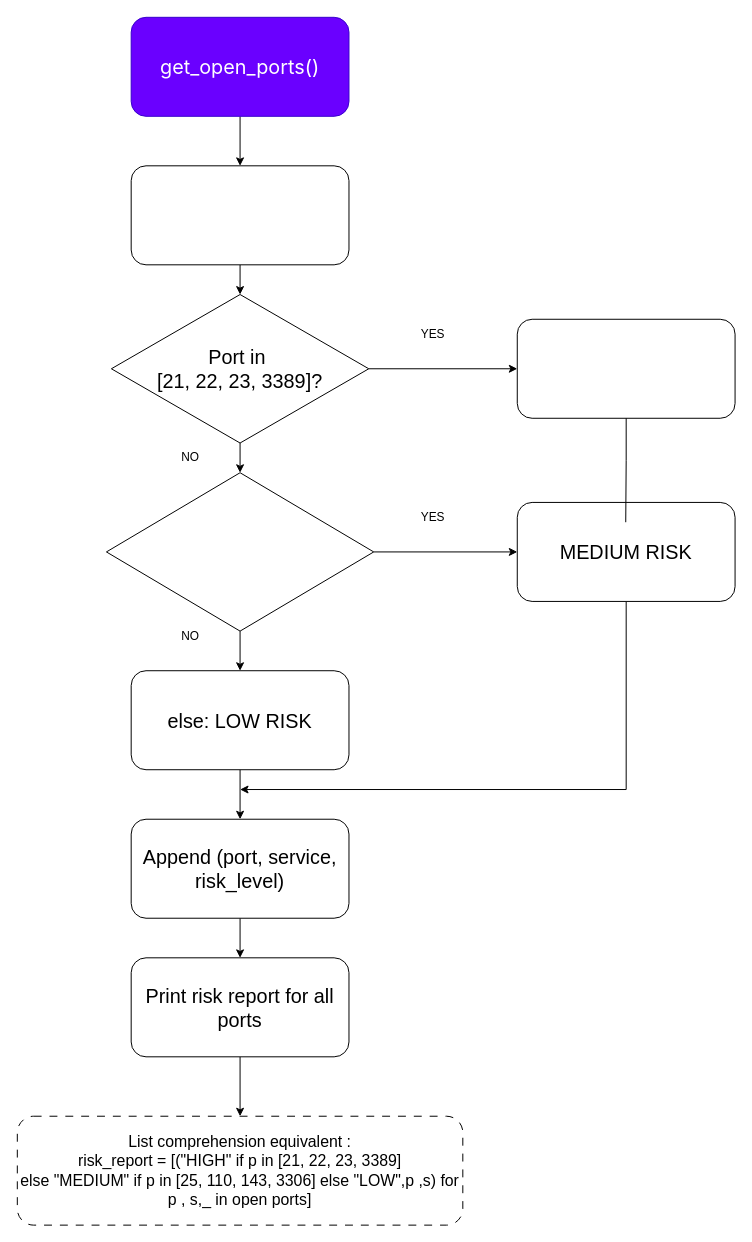
The diagram is 752 pixels wide and 1242 high, and some of its shapes have lost their labels. Each missing label, with the centre of its shape:
"HIGH RISK" goes at (x=625, y=368).
"Loop through each open port" goes at (x=239, y=215).
"Port in [25, 110, 143, 3306]?" goes at (x=239, y=551).
